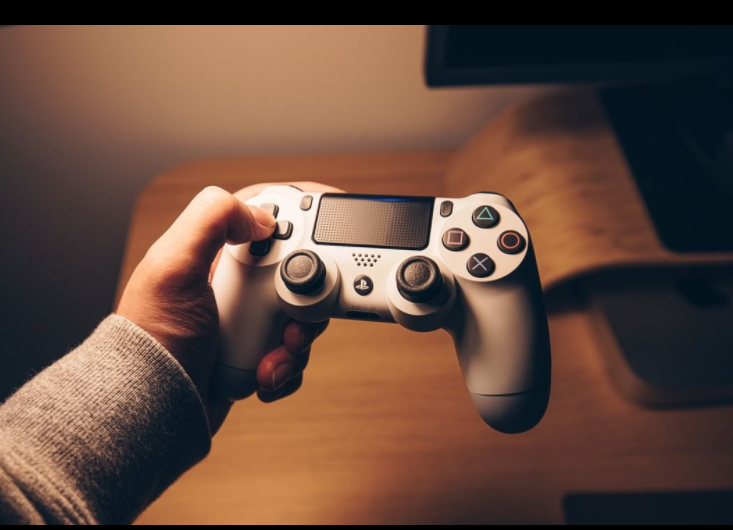gamingconsole: (212, 187, 553, 435)
